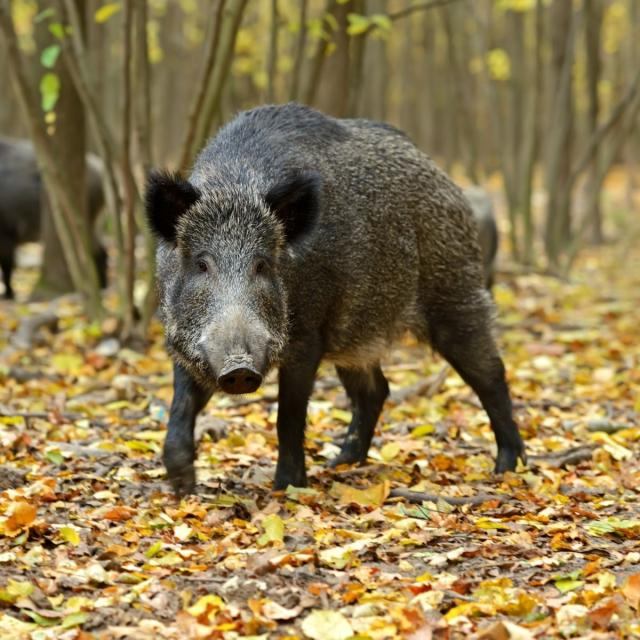Boar: (150, 102, 515, 492)
